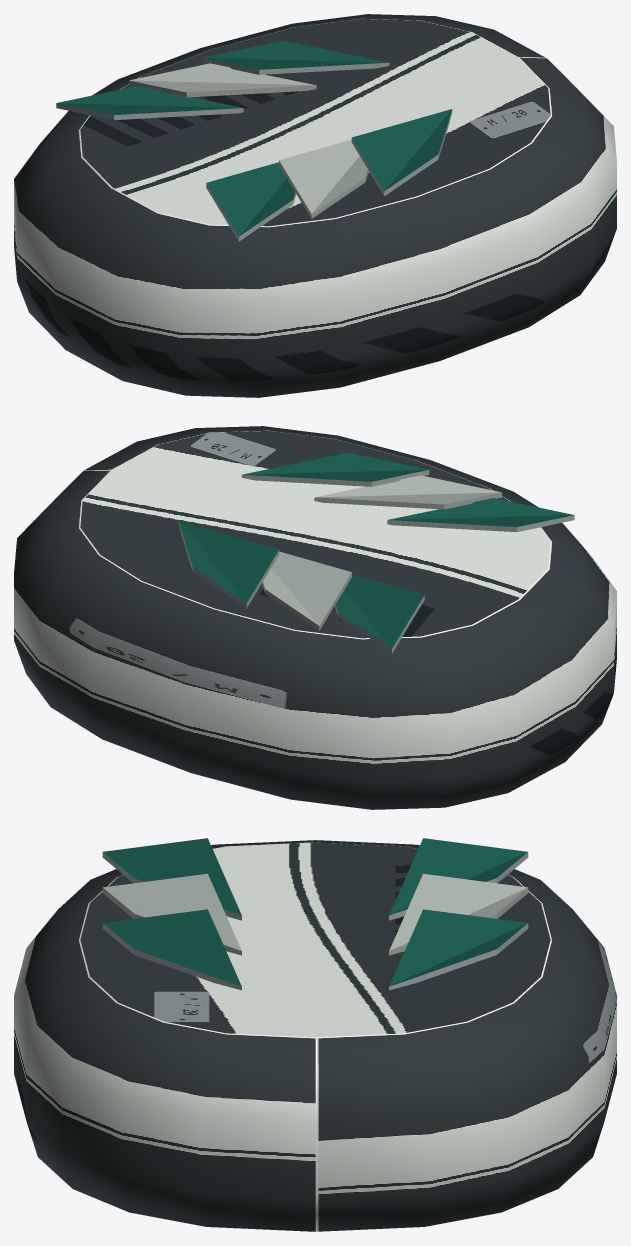
The model's file is MotorCowl_20_SR_青磁・黒稜.glb.
3 renders of one model, top to bottom at view 1: azimuth 30°, elevation 25°; view 2: azimuth 150°, elevation 25°; view 3: azimuth 270°, elevation 25°, orthographic. The views are drawn at different scales.
Visible parts, largest first — view 1: MotorCowl_20_SR; view 2: MotorCowl_20_SR; view 3: MotorCowl_20_SR.
Boxes of the visible parts, x1,y1,x2,y2 form: MotorCowl_20_SR: [14, 14, 616, 397]; MotorCowl_20_SR: [14, 426, 616, 809]; MotorCowl_20_SR: [14, 838, 616, 1231].
Bounding box in the file's own units: 0.332 × 0.1225 × 0.286.
Materials: 2 (2 with a texture image).
